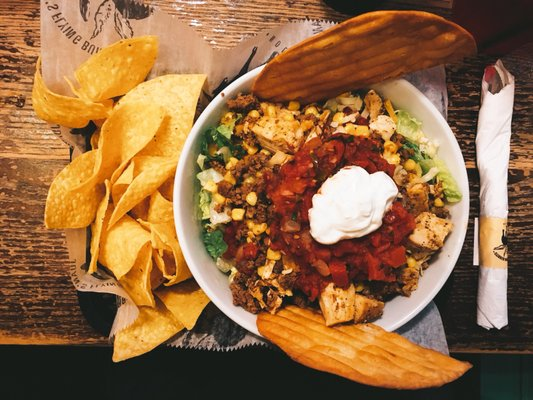sandwich: (475, 59, 516, 332)
sushi: (171, 29, 471, 364)
